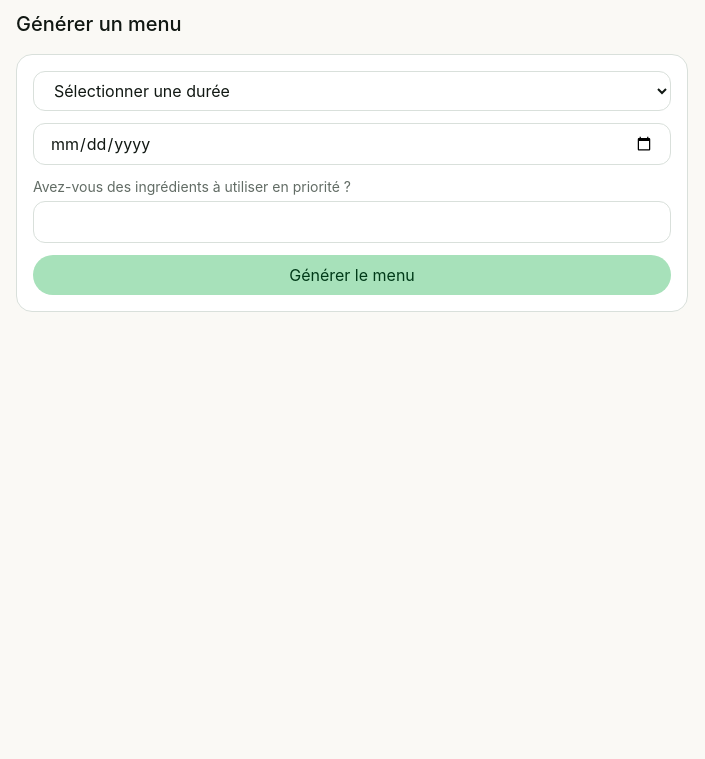
génère un menu et permet de déplier une recette
Step 1. Select "Pour une journée" in the dropdown → (352, 91), box [33, 71, 671, 111]
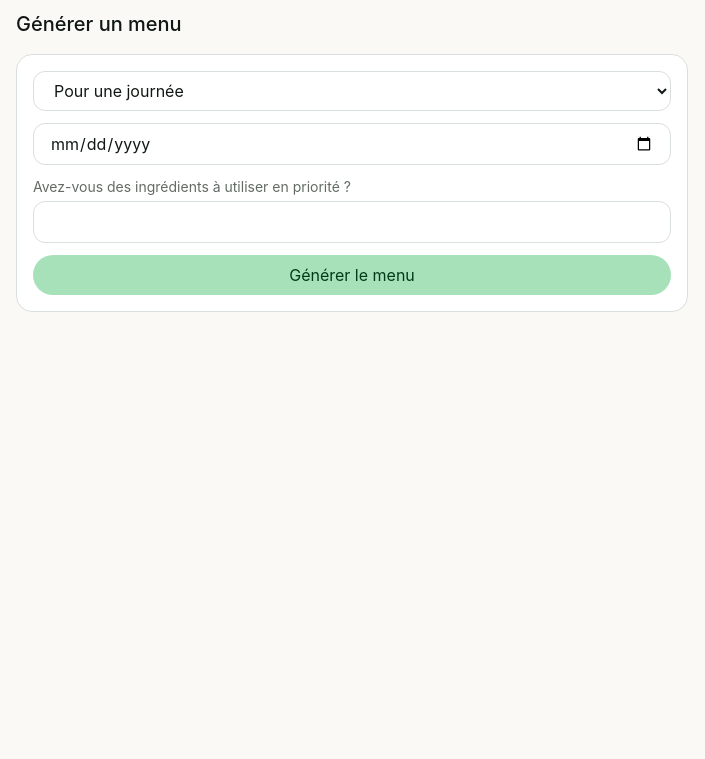
Step 2. Click the button "Générer le menu" → click(352, 275), box [33, 255, 671, 295]
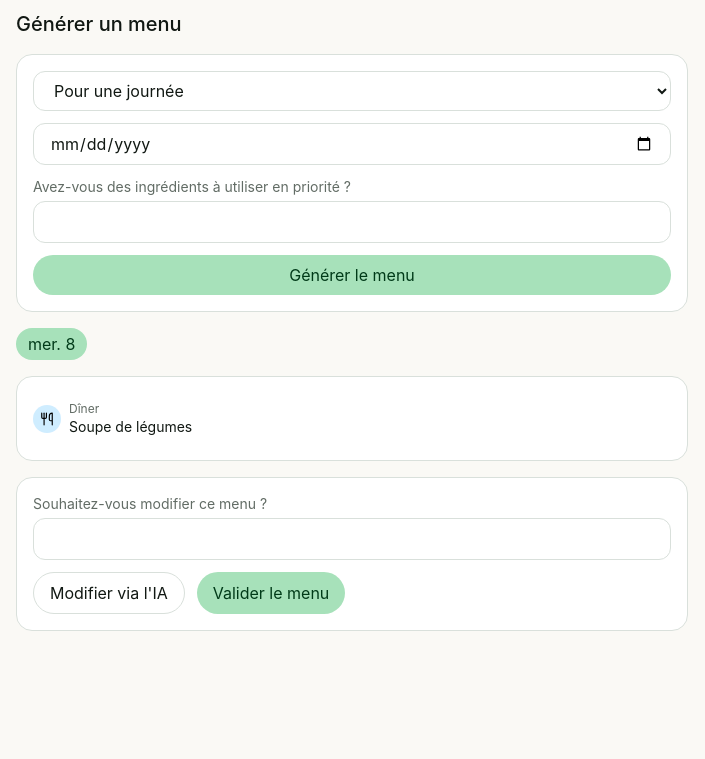
Now the text "Soupe de légumes" is shown
Step 3. Click the text "Soupe de légumes" → click(131, 427), box [69, 417, 192, 436]
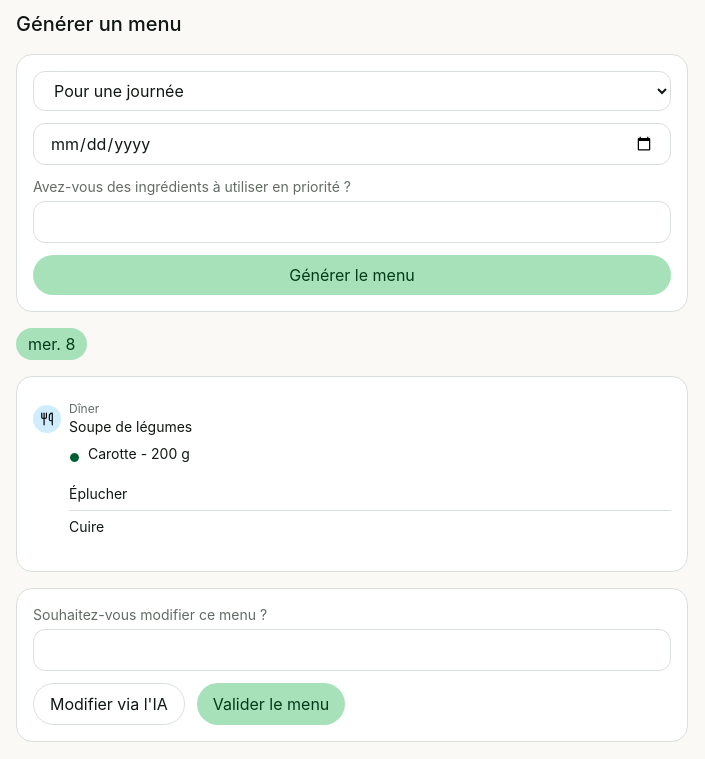
Now the text "Carotte - 200 g" is shown, box [88, 444, 190, 464]
Now the text "Éplucher" is shown, box [69, 478, 671, 511]
